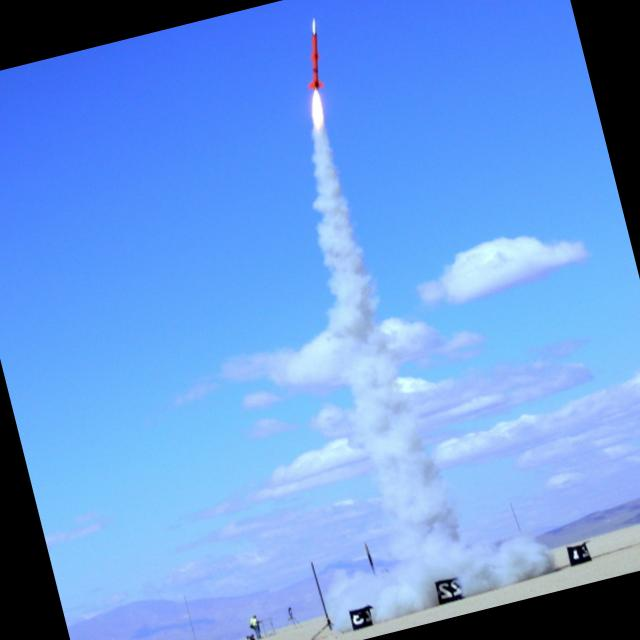rocket: (274, 6, 359, 186)
